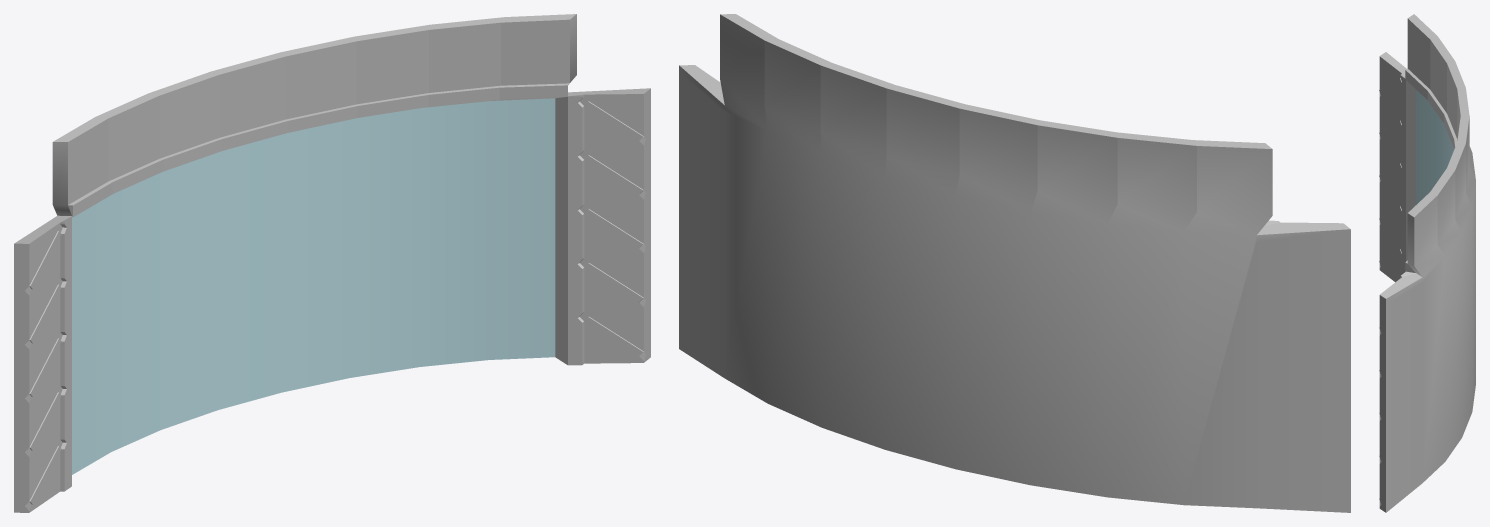
The model's file is ScreenFinal.FBX.
The picture shows the model from 3 angles, left to right: view 1: azimuth 30°, elevation 25°; view 2: azimuth 150°, elevation 25°; view 3: azimuth 270°, elevation 25°; orthographic projection. The views are drawn at different scales.
Visible parts, largest first — view 1: Pantalla.001, Pantalla; view 2: Pantalla; view 3: Pantalla, Pantalla.001.
Part boxes in pixels (x1,y1,x2,y2): Pantalla.001: (72,98,555,474); Pantalla: (14,14,650,512); Pantalla: (679,14,1350,512); Pantalla: (1379,14,1475,512); Pantalla.001: (1416,90,1454,204).
Size of the model in its own units: 23.2 by 11.98 by 3.84.
